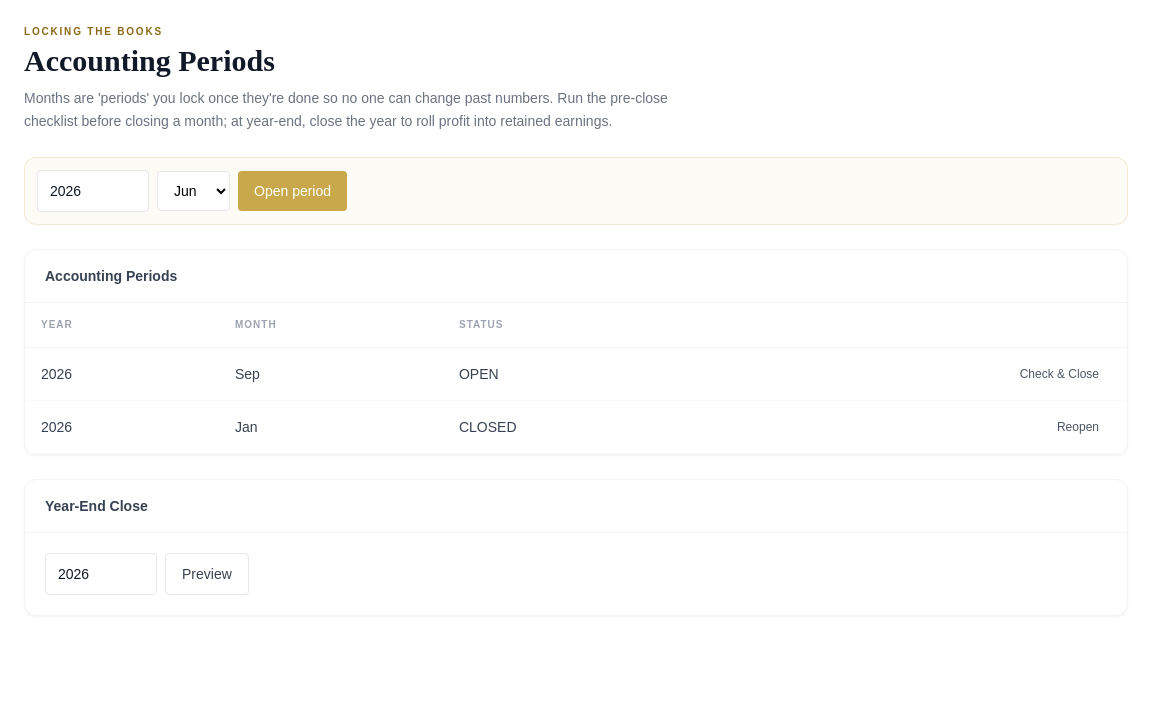
Test case: accounting periods i18n and labels (NEX-64) › reads exactly as before in English
Expected: the text "Sep" is shown, [219,347,443,400]
Expected: the text "Jan" is shown, [219,400,443,453]
Click the button "Preview" at (207, 574), box [165,552,249,594]
(page scrolled)
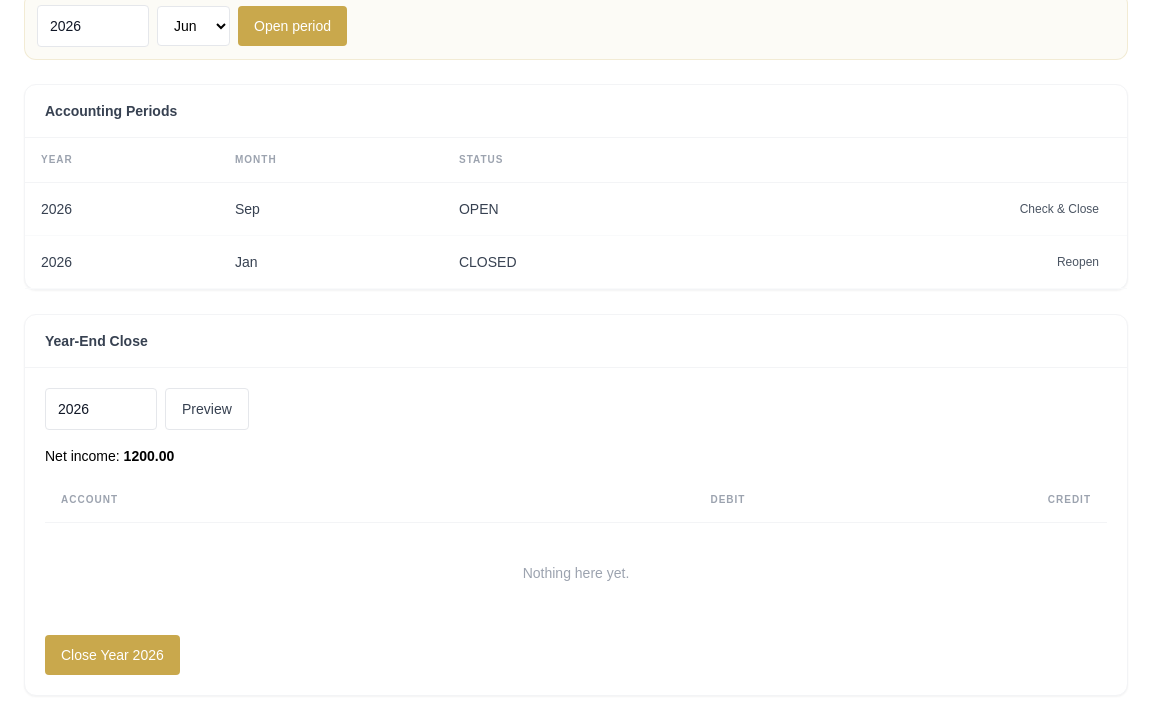
Click the button "Close Year 2026" at (112, 654), box [45,634,180,674]
(page scrolled)
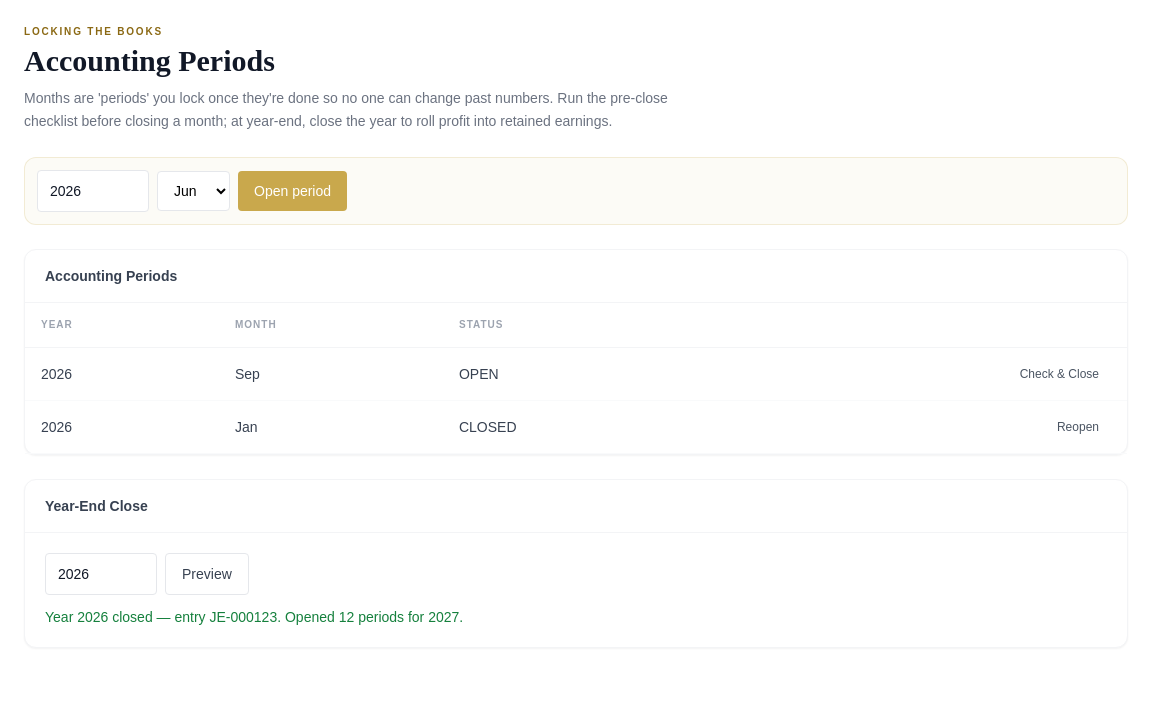
Expected: the text "Year 2026 closed — entry JE-000123. Opened 12 periods for 2027." is shown, [45,608,463,624]
